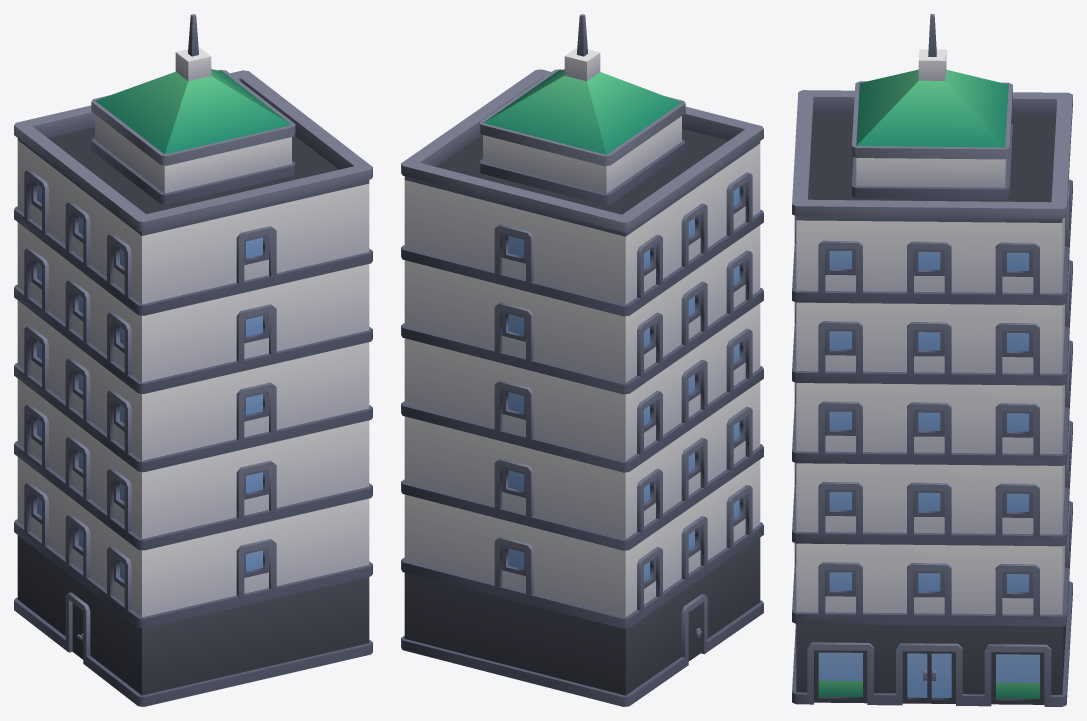
Rendered from building-m.034_lev1.glb.
3 renders of one model, left to right at view 1: azimuth 30°, elevation 25°; view 2: azimuth 150°, elevation 25°; view 3: azimuth 270°, elevation 25°, orthographic. The views are drawn at different scales.
Visible parts, largest first — view 1: building-m.034_lev1; view 2: building-m.034_lev1; view 3: building-m.034_lev1.
Part boxes in pixels (left/top/right/bottom): building-m.034_lev1: left=14, top=14, right=372, bottom=706; building-m.034_lev1: left=401, top=14, right=763, bottom=706; building-m.034_lev1: left=792, top=14, right=1072, bottom=706.
Size of the model in its own units: 6.34 by 15.75 by 6.34.
1 material, 1 textured.
